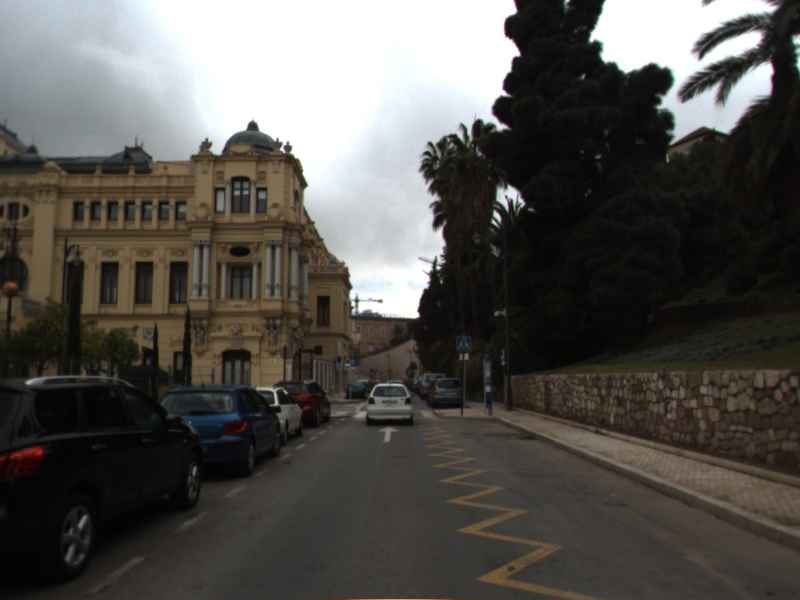STRAIGHT: (376, 425, 402, 443)
